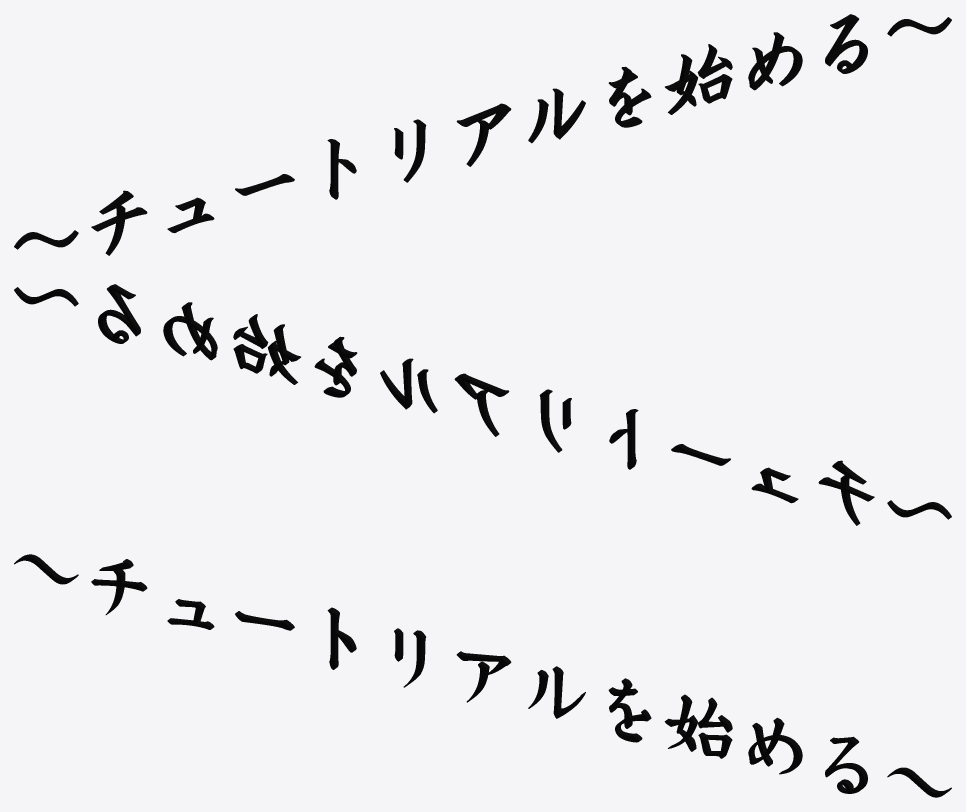
Rendered from select1.obj.
The picture shows the model from 3 angles, top to bottom: view 1: azimuth 30°, elevation 25°; view 2: azimuth 150°, elevation 25°; view 3: azimuth 330°, elevation 25°; orthographic projection.
Parts seen in each view (by area): view 1: テキスト.003; view 2: テキスト.003; view 3: テキスト.003.
Boxes of the visible parts, x1,y1,x2,y2 form: テキスト.003: (14,14,951,255); テキスト.003: (14,284,951,525); テキスト.003: (14,554,951,797).
Size of the model in its own units: 97.74 by 6.24 by 0.6064.
1 material, 1 textured.
